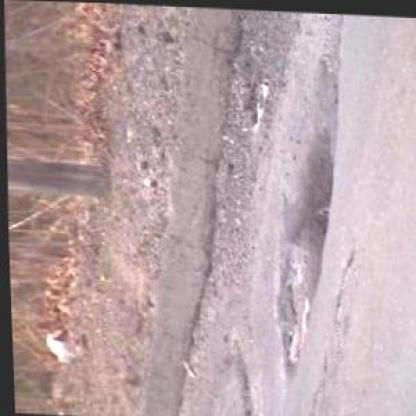pothole: (262, 128, 343, 373)
